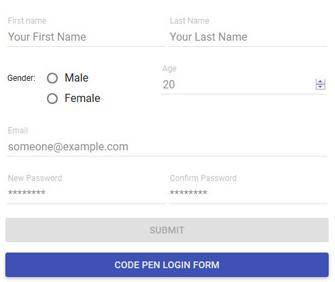button: (3, 216, 330, 244), (3, 251, 330, 279)
field_line: (5, 137, 327, 157), (158, 74, 328, 97), (167, 27, 331, 49), (167, 185, 326, 207), (3, 185, 169, 206), (5, 27, 166, 47)
field_line_with_label: (4, 126, 328, 158), (157, 64, 329, 98), (166, 16, 332, 50), (2, 174, 169, 207), (168, 175, 327, 209), (4, 16, 167, 47)
radio: (44, 71, 59, 86), (47, 92, 59, 104)
radio_with_label: (45, 90, 101, 106), (42, 68, 89, 87)
